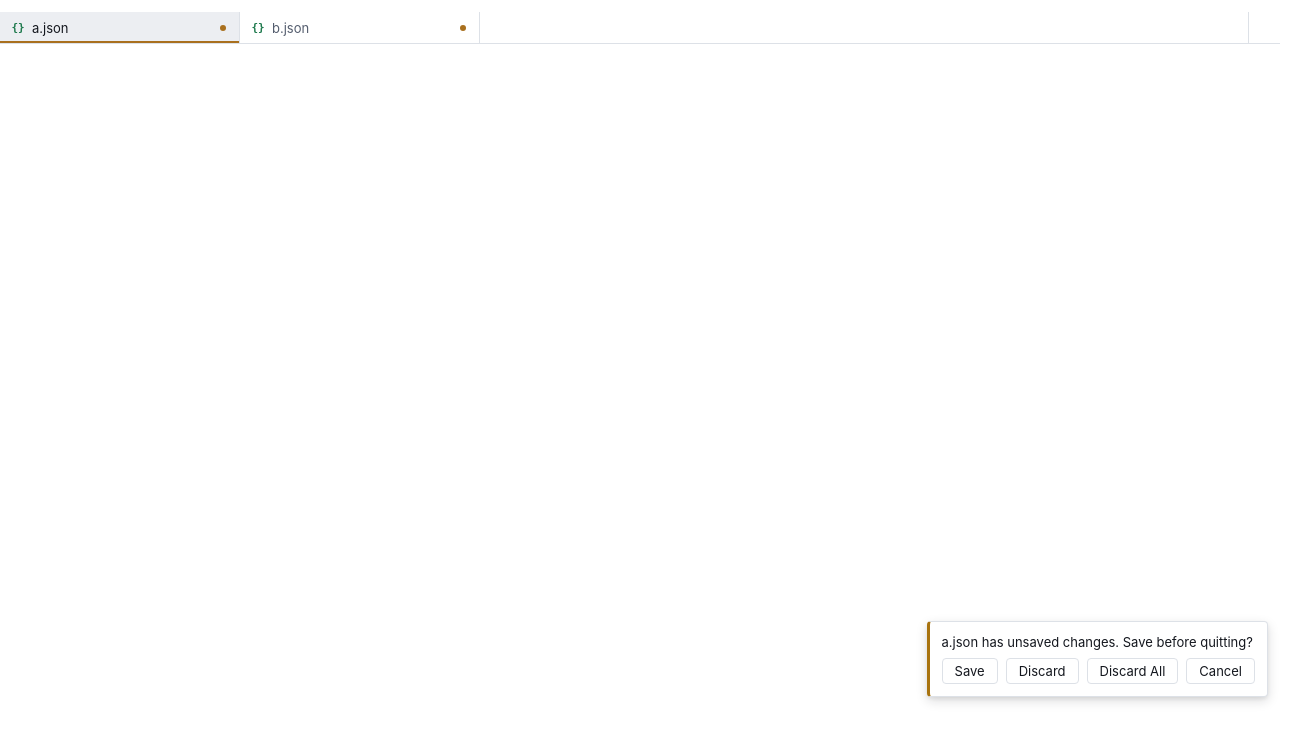
the consolidated quit flow, end to end (R26) › Cancel aborts the whole flow and leaves every tab open
What coordinates should you click on to do the following:
click the button with class "notification-action" showing "Cancel"
I would click on:
 (1221, 671)
Its box is [1186,658,1255,684].
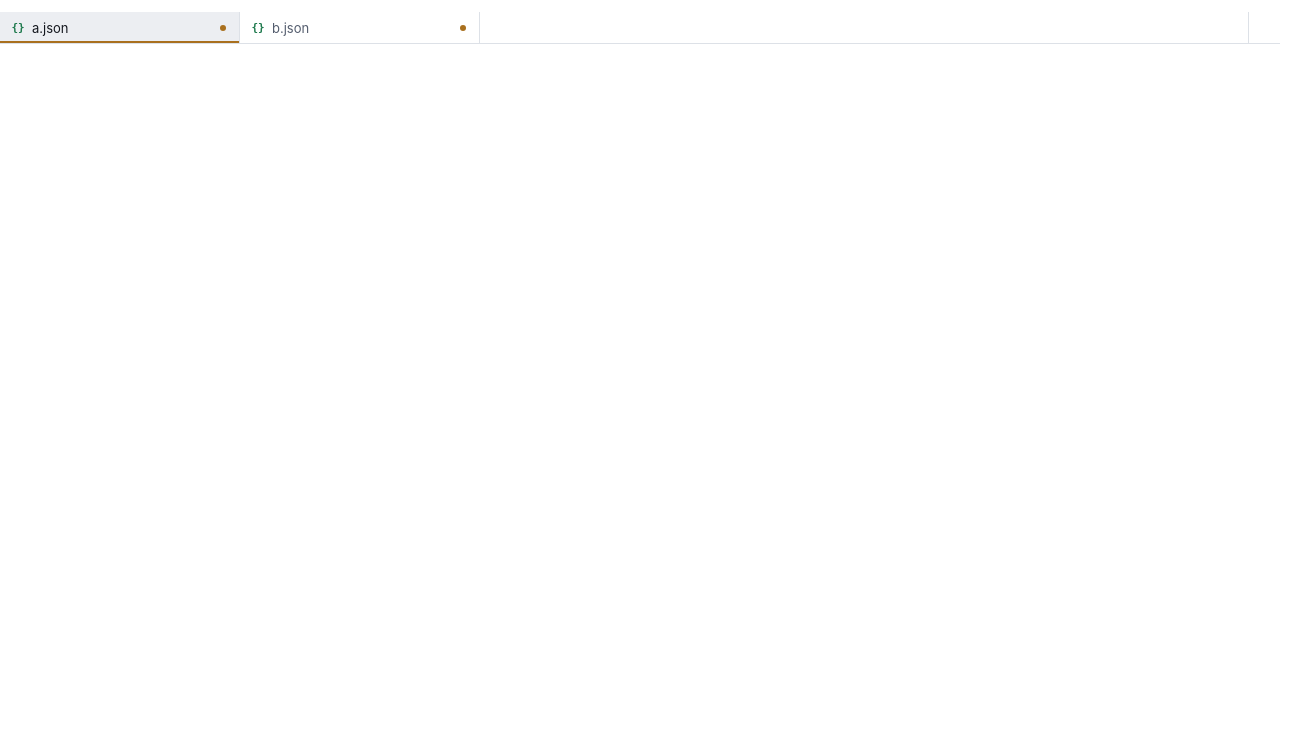
Result: the text with class "notification-message" is gone
